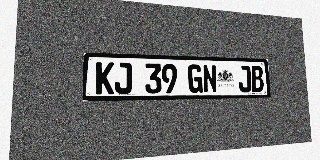3: (145, 63, 161, 94)
9: (162, 64, 177, 93)
B: (251, 66, 264, 92)
G: (188, 64, 203, 93)
J: (114, 62, 132, 94), (238, 65, 252, 92)
K: (96, 62, 114, 94)
N: (202, 65, 217, 93)
